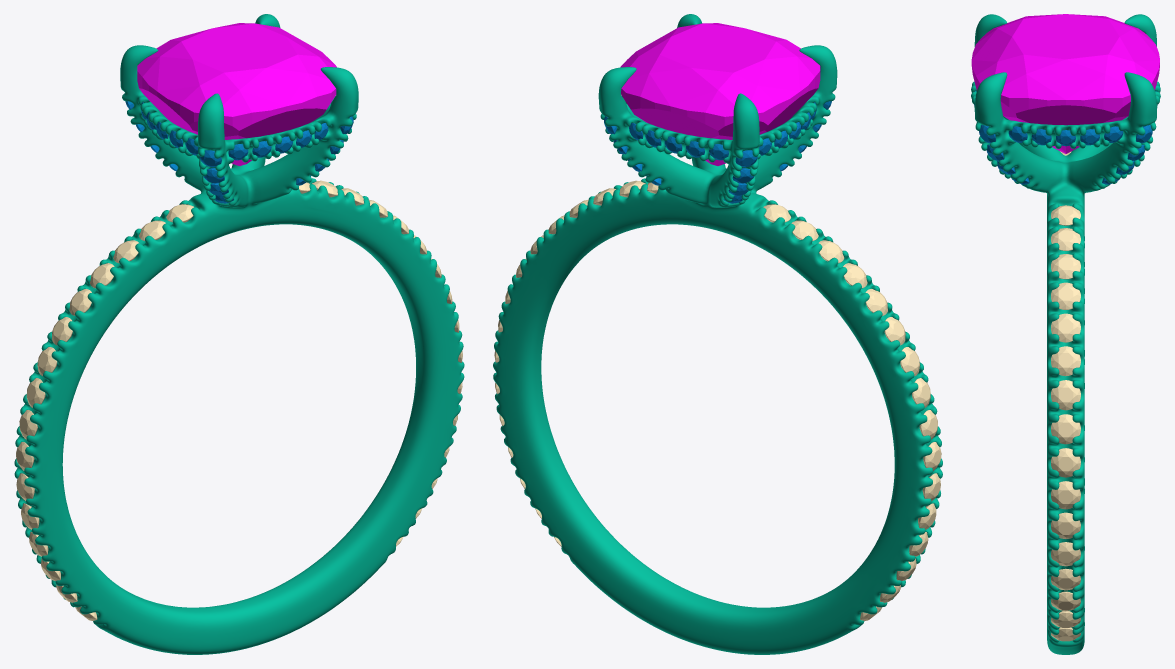
The model's file is BE1D129_CU_200ct_RENDER.glb.
3 renders of one model, left to right at view 1: azimuth 30°, elevation 25°; view 2: azimuth 150°, elevation 25°; view 3: azimuth 270°, elevation 25°, orthographic.
Parts seen in each view (by area): view 1: Metal 01, CS_Diamond_Cushion; view 2: Metal 01, CS_Diamond_Cushion; view 3: Metal 01, CS_Diamond_Cushion, Diamond_Round_Gem_SH.008, Diamond_Round_Gem_SH.007, Diamond_Round_Gem_SH.006, Diamond_Round_Gem_SH.009, Diamond_Round_Gem_SH.005, Diamond_Round_Gem_SH.010, Diamond_Round_Gem_SH.004, Diamond_Round_Gem_SH.011, Diamond_Round_Gem_SH.003, Diamond_Round_Gem_SH.012 (+5 smaller).
Boxes of the visible parts, x1,y1,x2,y2 form: Metal 01: (14, 14, 464, 654); CS_Diamond_Cushion: (137, 23, 336, 165); Metal 01: (493, 14, 942, 654); CS_Diamond_Cushion: (620, 23, 820, 165); Metal 01: (971, 14, 1160, 654); CS_Diamond_Cushion: (971, 14, 1159, 153); Diamond_Round_Gem_SH.008: (1051, 414, 1080, 444); Diamond_Round_Gem_SH.007: (1051, 380, 1080, 410); Diamond_Round_Gem_SH.006: (1051, 346, 1080, 376); Diamond_Round_Gem_SH.009: (1051, 448, 1080, 477); Diamond_Round_Gem_SH.005: (1051, 313, 1080, 342); Diamond_Round_Gem_SH.010: (1051, 481, 1080, 509); Diamond_Round_Gem_SH.004: (1051, 282, 1080, 309); Diamond_Round_Gem_SH.011: (1051, 512, 1080, 538); Diamond_Round_Gem_SH.003: (1051, 254, 1080, 279); Diamond_Round_Gem_SH.012: (1051, 542, 1080, 566).
Bounding box in the file's own units: 20.08 × 26.11 × 7.56.
